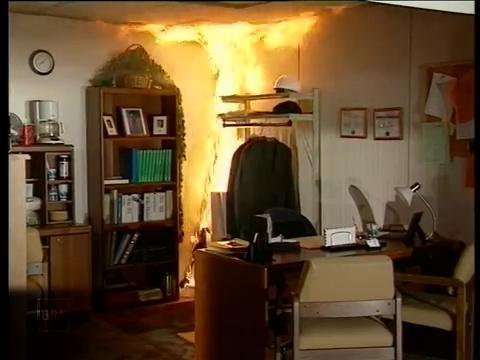fire: (187, 72, 263, 210), (137, 15, 339, 64)
